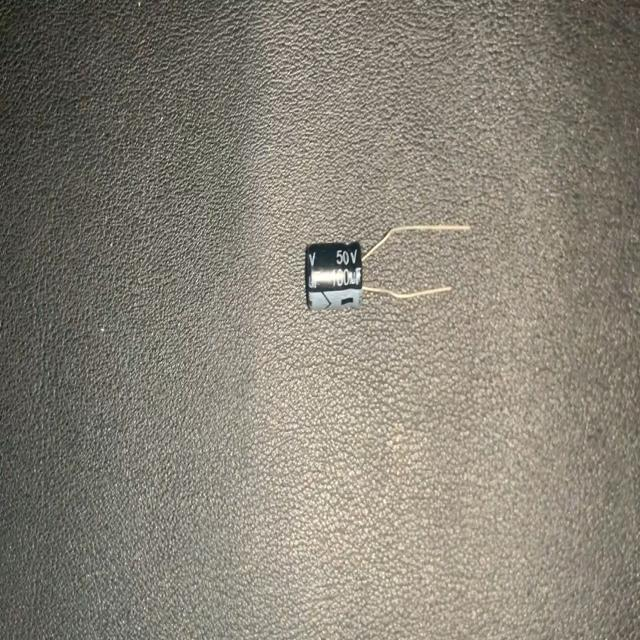capacitor: (302, 215, 478, 321)
